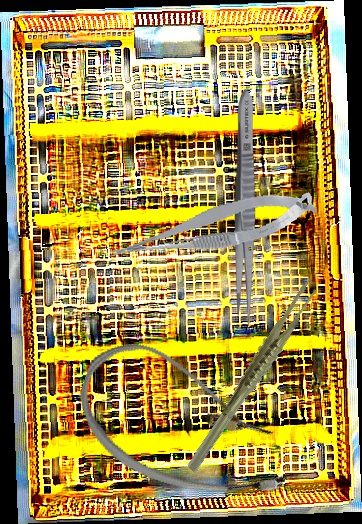Cannula: (61, 329, 311, 520)
Dressing Forceps: (234, 89, 257, 326)
Micro Scissor: (103, 185, 320, 268)
Tissue Forceps: (155, 280, 347, 475)
